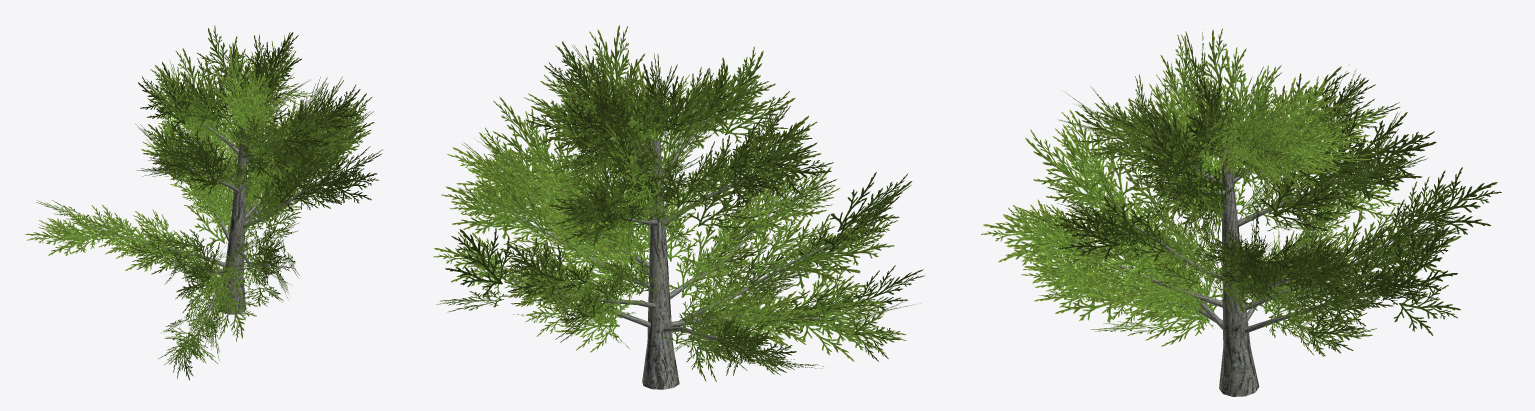
The model's file is tree_cypress_a.glb.
3 views of the same model, side by side, from view 1: azimuth 30°, elevation 25°; view 2: azimuth 150°, elevation 25°; view 3: azimuth 270°, elevation 25° (orthographic). The views are drawn at different scales.
Parts seen in each view (by area): view 1: tree; view 2: tree; view 3: tree.
Boxes of the visible parts, bbox=[...] form: tree: bbox=[25, 25, 382, 380]; tree: bbox=[433, 25, 924, 389]; tree: bbox=[981, 28, 1501, 396].
Bounding box in the file's own units: 9.42 × 7.51 × 9.94.
2 materials, 2 textured.
